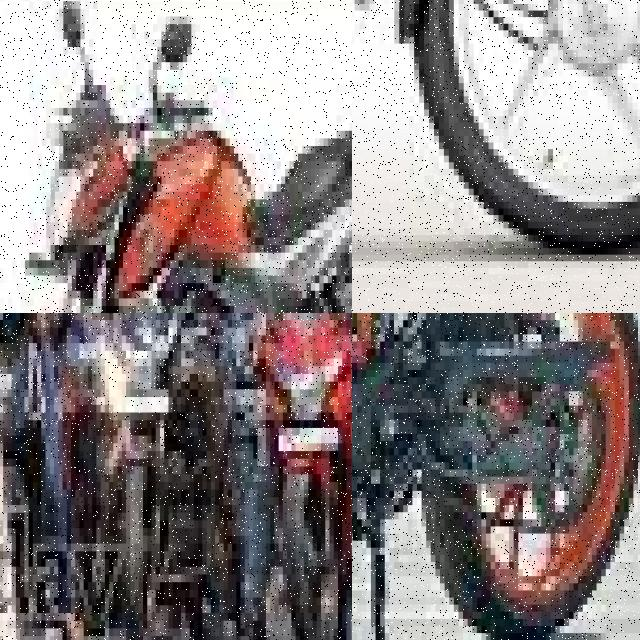bike: (352, 313, 640, 640), (0, 70, 352, 313), (352, 0, 640, 268), (92, 313, 206, 640), (253, 313, 352, 640)
